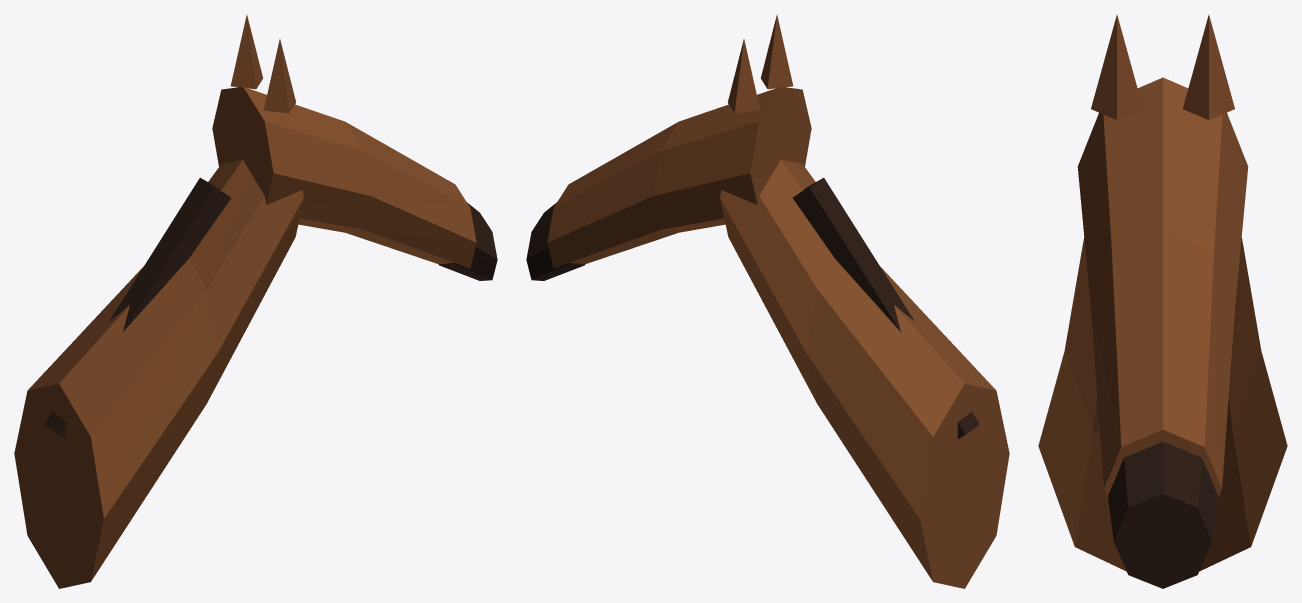
Rendered from carreta_head_castano.obj.
3 views of the same model, side by side, from view 1: azimuth 30°, elevation 25°; view 2: azimuth 150°, elevation 25°; view 3: azimuth 270°, elevation 25° (orthographic). The views are drawn at different scales.
Parts seen in each view (by area): view 1: carreta_head_castano; view 2: carreta_head_castano; view 3: carreta_head_castano.
Boxes of the visible parts, x1,y1,x2,y2 form: carreta_head_castano: [14, 14, 497, 588]; carreta_head_castano: [526, 14, 1009, 588]; carreta_head_castano: [1038, 14, 1287, 588].
Size of the model in its own units: 1.05 by 1.2 by 0.38.
